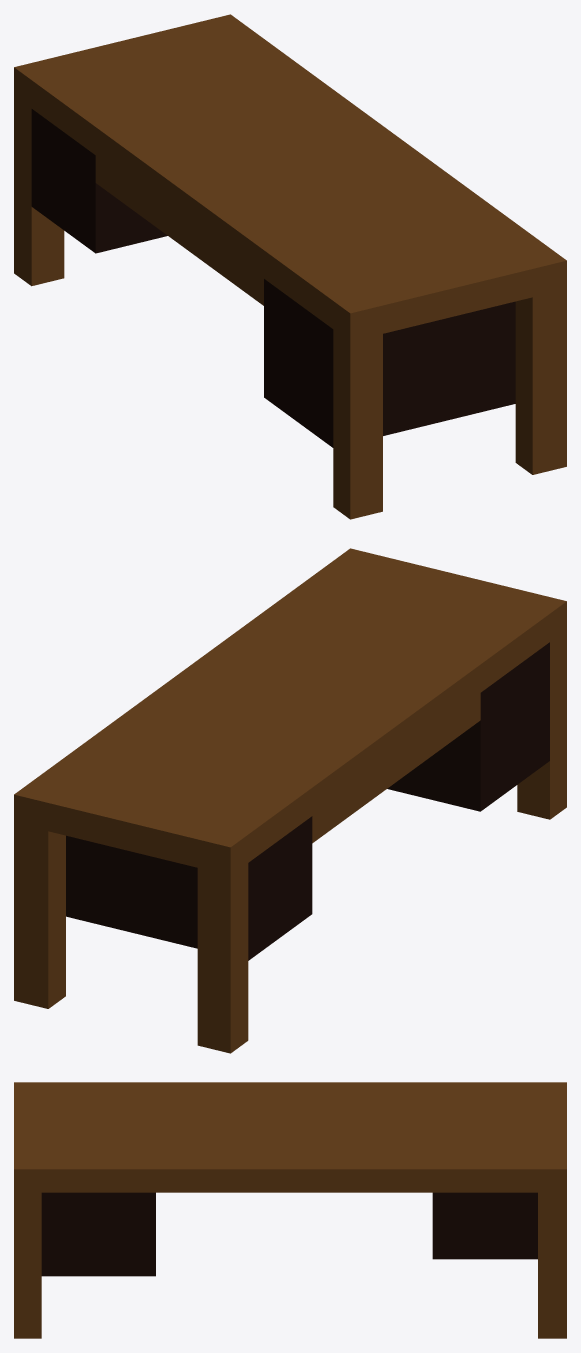
Rendered from bossdesk.fbx.
3 views of the same model, one above another, from view 1: azimuth 30°, elevation 25°; view 2: azimuth 150°, elevation 25°; view 3: azimuth 270°, elevation 25° (orthographic). The views are drawn at different scales.
Visible parts, largest first — view 1: Cube; view 2: Cube; view 3: Cube.
Part boxes in pixels (x1,y1,x2,y2): Cube: (14, 14, 566, 519); Cube: (14, 548, 566, 1053); Cube: (14, 1082, 566, 1338).
Bounding box in the file's own units: 200 × 182 × 538.
